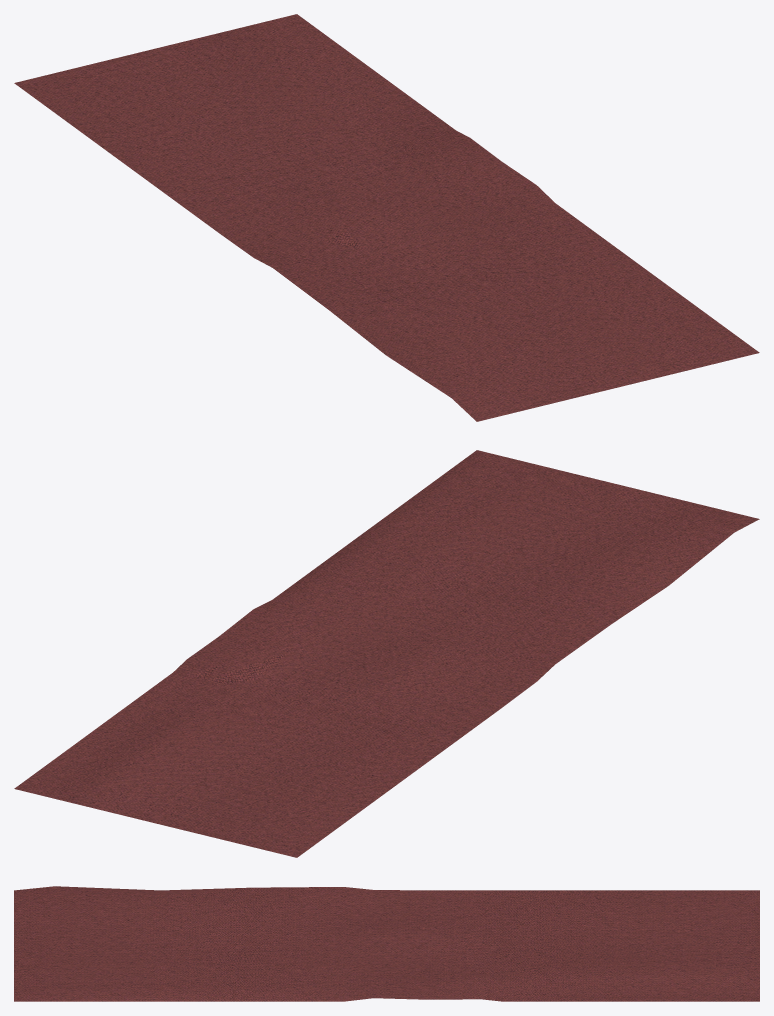
File: Prop_CarpetB.fbx
3 views of the same model, one above another, from view 1: azimuth 30°, elevation 25°; view 2: azimuth 150°, elevation 25°; view 3: azimuth 270°, elevation 25° (orthographic). The views are drawn at different scales.
Parts seen in each view (by area): view 1: Cube_066; view 2: Cube_066; view 3: Cube_066.
Part boxes in pixels (box(x1,y1,x2,y2)): Cube_066: box(14, 14, 759, 421); Cube_066: box(14, 450, 759, 857); Cube_066: box(14, 886, 759, 1001).
Bounding box in the file's own units: 7.06 × 0.2172 × 20.
